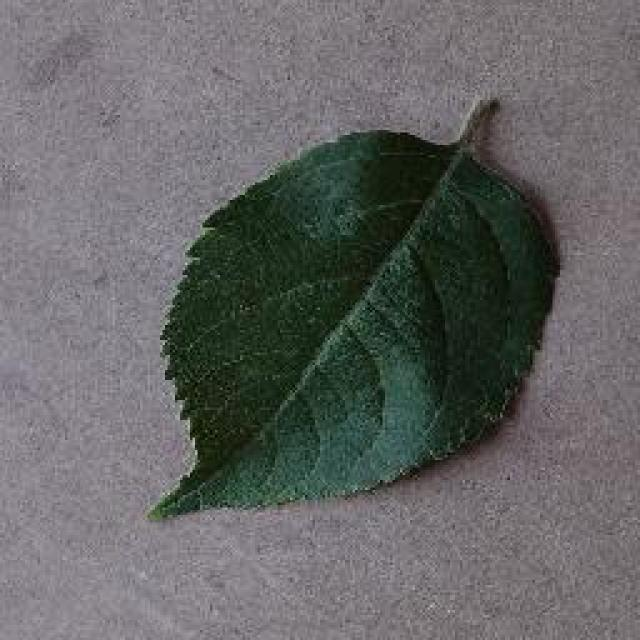apple healthy: (145, 92, 563, 522)
